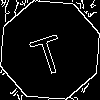T: (25, 25, 69, 78)
